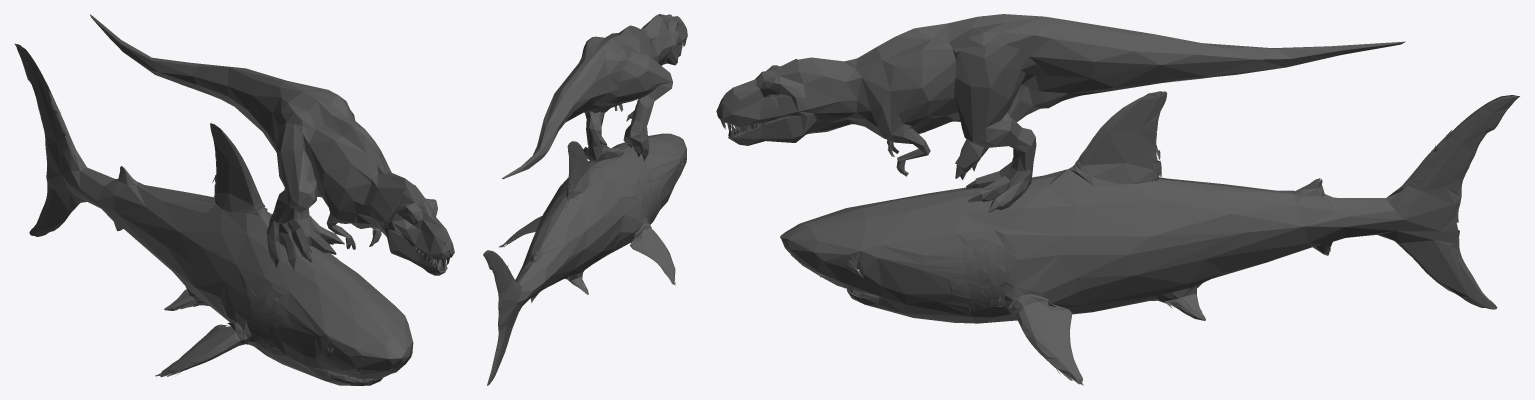
File: trex_shark.obj
The picture shows the model from 3 angles, left to right: view 1: azimuth 30°, elevation 25°; view 2: azimuth 150°, elevation 25°; view 3: azimuth 270°, elevation 25°; orthographic projection. The views are drawn at different scales.
Visible parts, largest first — view 1: Object_40, Object_6; view 2: Object_40, Object_6; view 3: Object_40, Object_6.
Boxes of the visible parts, x1,y1,x2,y2 form: Object_40: [14, 43, 413, 385]; Object_6: [90, 14, 454, 275]; Object_40: [483, 133, 686, 385]; Object_6: [502, 14, 687, 178]; Object_40: [780, 91, 1519, 385]; Object_6: [716, 14, 1405, 212].
Bounding box in the file's own units: 6.87 × 8.14 × 18.13.
